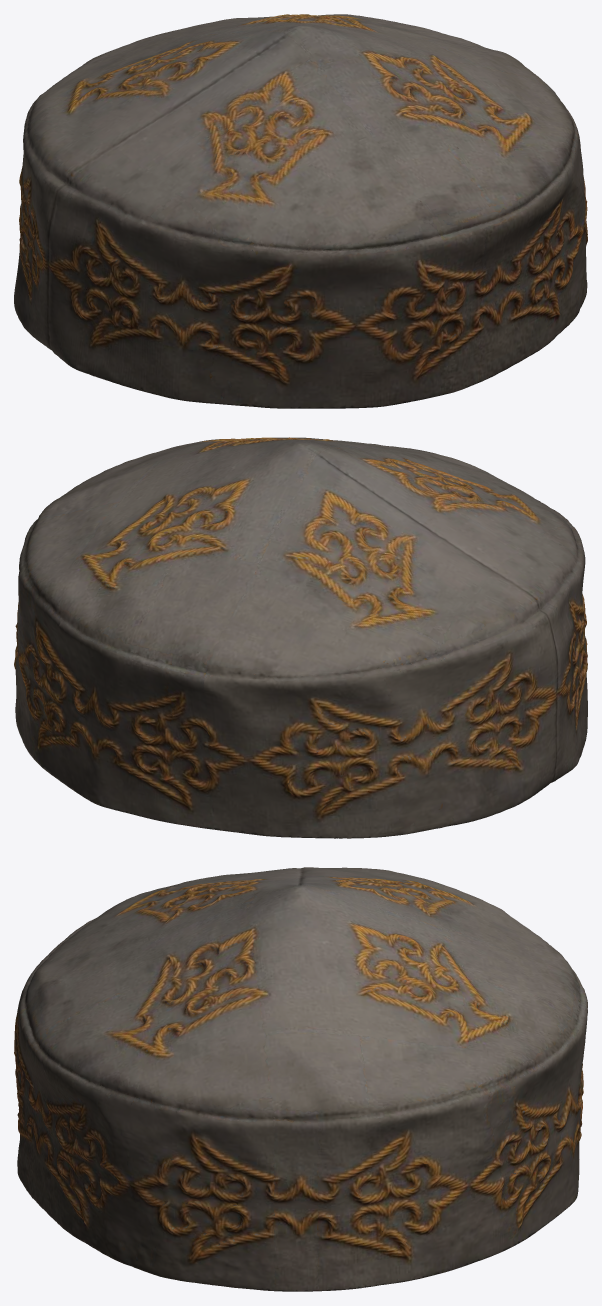
The model's file is taqiya_grey_m_kazakh_national_headdress.glb.
3 views of the same model, one above another, from view 1: azimuth 30°, elevation 25°; view 2: azimuth 150°, elevation 25°; view 3: azimuth 270°, elevation 25° (orthographic). The views are drawn at different scales.
Bounding box in the file's own units: 0.2735 × 0.1416 × 0.2641.
Materials: 2 (1 with a texture image).
